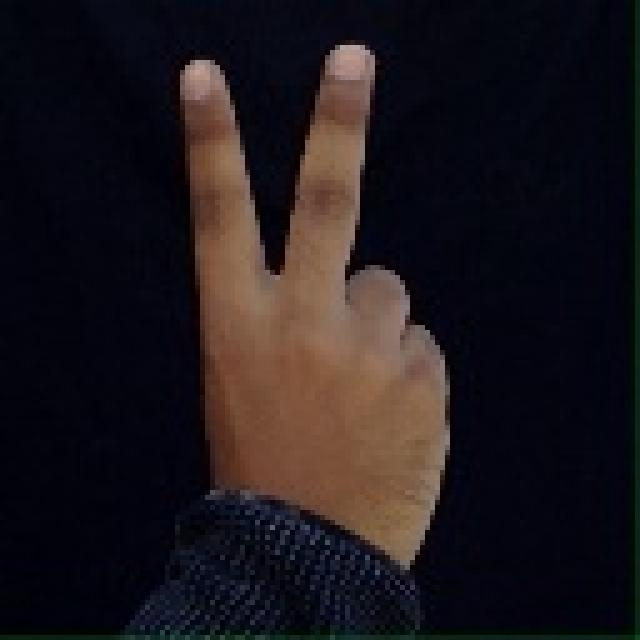Alphabet-V: (150, 23, 465, 594)
